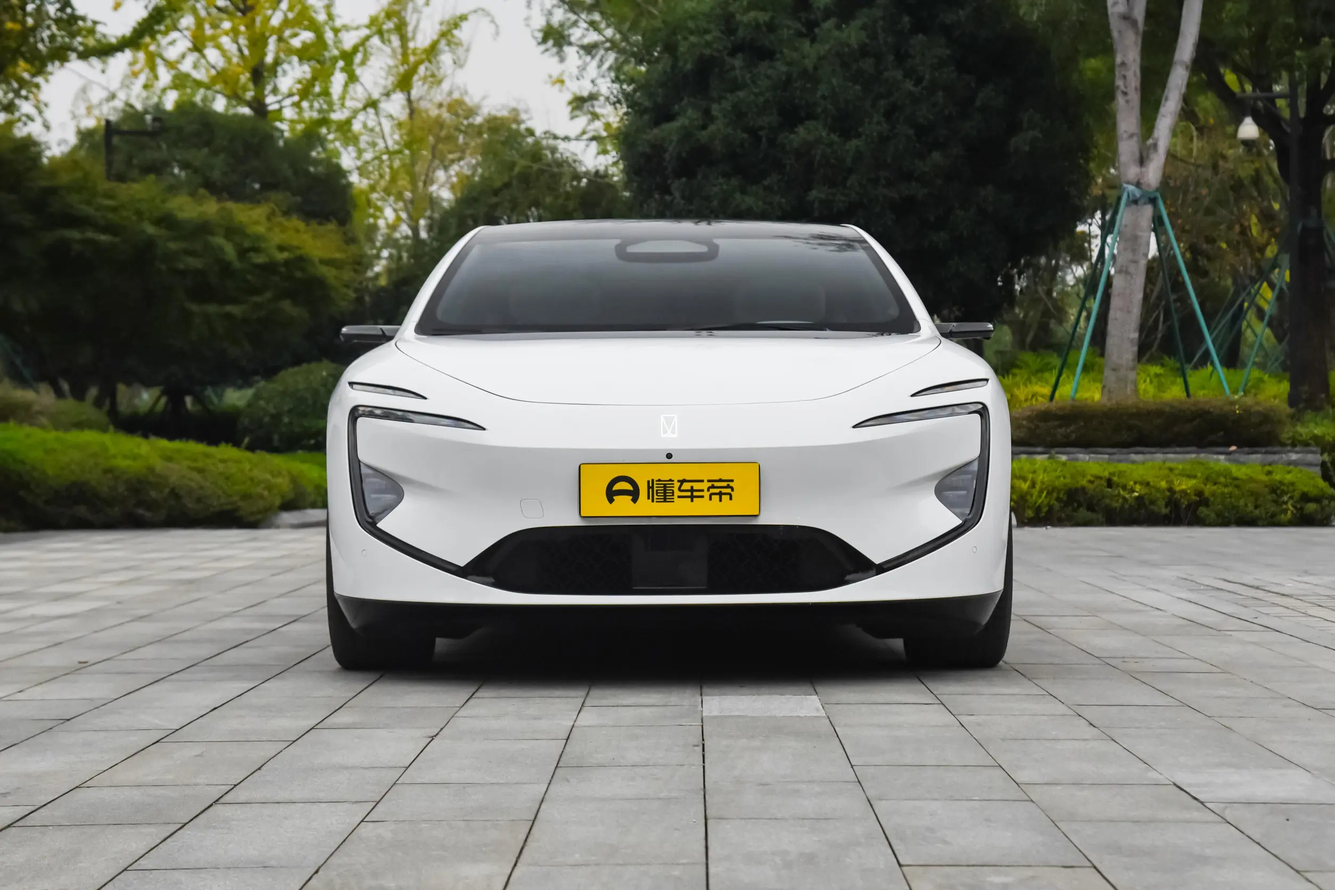AVATR: (661, 415, 677, 436)
